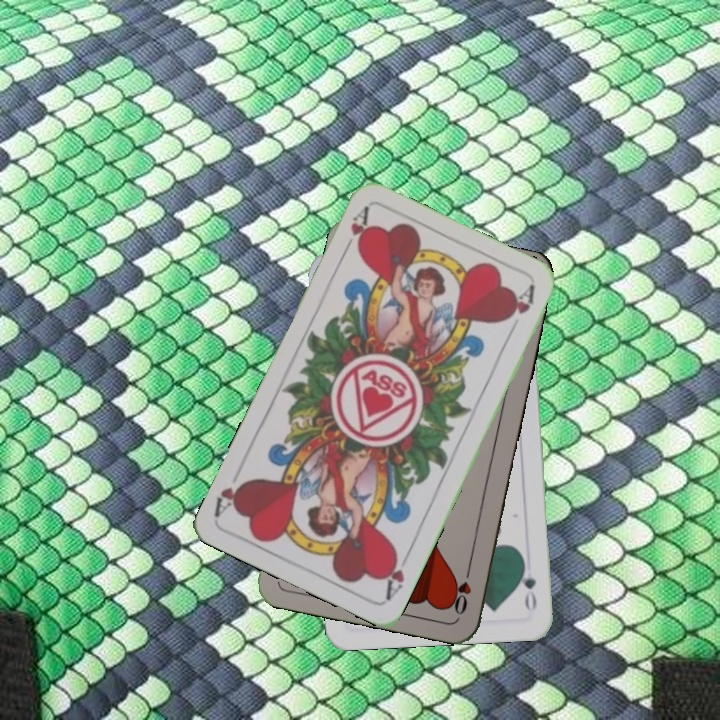GO: (516, 556, 539, 614)
HA: (338, 203, 373, 259), (380, 546, 414, 603)
HO: (449, 560, 474, 618)
